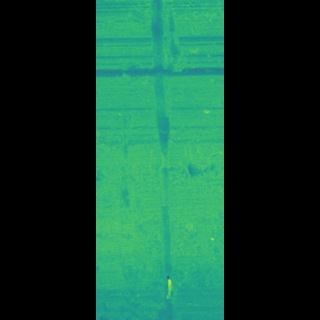Loch: (142, 0, 173, 320), (134, 163, 186, 320)
